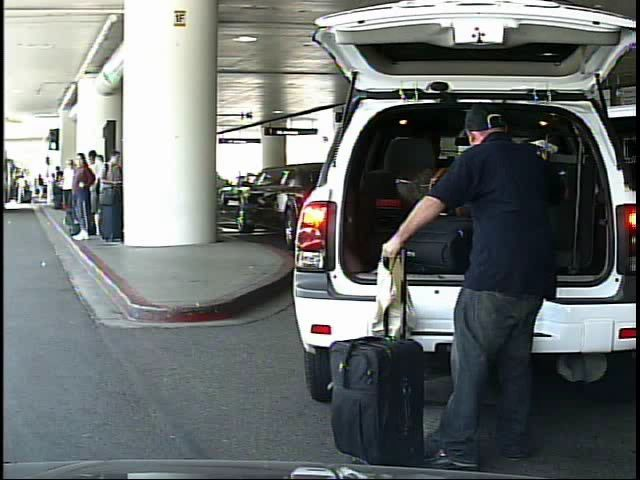person: (381, 100, 555, 476), (33, 172, 46, 203), (17, 175, 28, 206)
